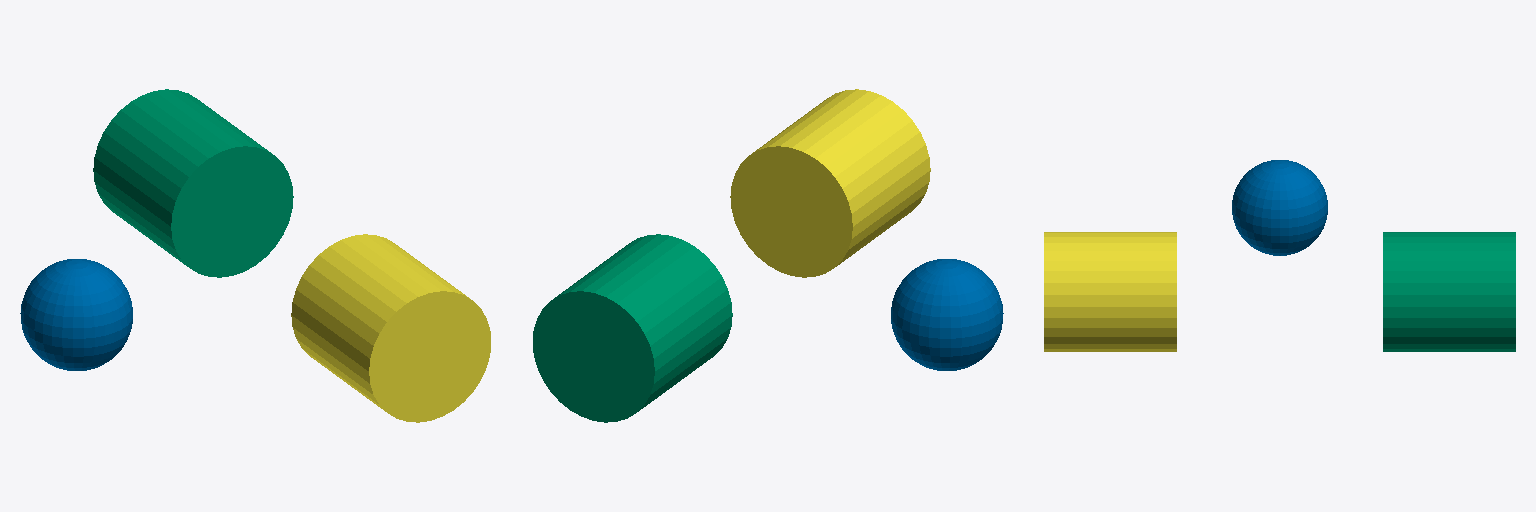
The robot description file, URDF, robot "crawler":
<?xml version="1.0" ?>
<!-- =================================================================================== -->
<!-- |    This document was autogenerated by xacro from crawler.xacro                  | -->
<!-- |    EDITING THIS FILE BY HAND IS NOT RECOMMENDED                                 | -->
<!-- =================================================================================== -->
<robot name="crawler">
  <!-- Base Footprint -->
  <link name="base_footprint">
    <origin rpy="0 0 0" xyz="0 0 0"/>
    <!--xacro:box_inertia m="0.01" w="0.001" h="0.001" d="0.001"/-->
  </link>
  <!--Base link for the main body-->
  <link name="base_link">
    <origin rpy="0 0 0" xyz="0 0 0"/>
    <inertial>
      <mass value="2"/>
      <inertia ixx="0.008333" ixy="0.0" ixz="0.0" iyy="0.008333" iyz="0.0" izz="0.0133333"/>
    </inertial>
    <collision>
      <geometry>
        <box size="0.2 0.2 0.05"/>
      </geometry>
    </collision>
  </link>
  <!--base_link to base_footprint Joint-->
  <joint name="base_link_joint" type="fixed">
    <origin rpy="0 0 0" xyz="0 0 0.0425"/>
    <parent link="base_footprint"/>
    <child link="base_link"/>
  </joint>
  <link name="left_front_wheel">
    <collision>
      <origin rpy="1.570796326795 0 0" xyz="0 0 0"/>
      <geometry>
        <!-- <mesh filename="./crawler_front_wheel_filet.stl" /> -->
        <cylinder length="0.055" radius="0.025"/>
      </geometry>
    </collision>
    <visual>
      <origin rpy="1.570796326795 0 0" xyz="0 0 0"/>
        <geometry>
	        <!-- <mesh filename="./crawler_front_wheel_filet.stl"/>	 -->
          <cylinder length="0.055" radius="0.025"/>
      </geometry>
    </visual>
    <surface>
      <friction>
        <ode>
          <mu>1.0</mu>
          <mu2>1.0</mu2>
        </ode>
      </friction>
    </surface>
    <inertial>
      <mass value="0.8"/>
      <inertia ixx="0.0003266666666666667" ixy="0" ixz="0" iyy="0.0003266666666666667" iyz="0" izz="0.00025000000000000006"/>
    </inertial>
  </link>
  <joint name="left_front_wheel_joint" type="continuous">
    <axis rpy="0 0 0" xyz="0 1 0"/>
    <parent link="base_link"/>
    <child link="left_front_wheel"/>
    <origin rpy="0 0 0" xyz="0.0 0.07 -0.03"/>
  </joint>
  <link name="right_front_wheel">
    <collision>
      <origin rpy="1.570796326795 0 0" xyz="0 0 0"/>
      <geometry>
        <!-- <mesh filename="./crawler_front_wheel_filet.stl" /> -->
        <cylinder length="0.055" radius="0.025"/>
      </geometry>
    </collision>
    <visual>
      <origin rpy="1.570796326795 0 0" xyz="0 0 0"/>
      <geometry>
        <!-- <mesh filename="./crawler_front_wheel_filet.stl" /> -->
        <cylinder length="0.055" radius="0.025"/>
      </geometry>
    </visual>
    <surface>
      <friction>
        <ode>
          <mu>1.0</mu>
          <mu2>1.0</mu2>
        </ode>
      </friction>
    </surface>
    <inertial>
      <mass value="0.8"/>
      <inertia ixx="0.0003266666666666667" ixy="0" ixz="0" iyy="0.0003266666666666667" iyz="0" izz="0.00025000000000000006"/>
    </inertial>
  </link>
  <joint name="right_front_wheel_joint" type="continuous">
    <axis rpy="0 0 0" xyz="0 1 0"/>
    <parent link="base_link"/>
    <child link="right_front_wheel"/>
    <origin rpy="0 0 0" xyz="0.0 -0.07 -0.03"/>
  </joint>
 
  <!-- SPHERICAL CASTER WHEEL -->
  <!--Caster Wheel Link-->
  <link name="caster_wheel">
    <visual>
      <origin xyz="0 0 0" rpy="0 0 0"/>
      <geometry>
        <sphere radius="0.02"/>
      </geometry>
    </visual>
    <collision>
      <origin xyz="0 0 0" rpy="0 0 0"/>
      <geometry>
        <sphere radius="0.02"/>
      </geometry>
    </collision>
    <surface>
      <friction>
        <ode>
          <mu>1.0</mu>
          <mu2>1.0</mu2>
        </ode>
      </friction>
    </surface>
    <inertial>
      <mass value="0.25"/>
      <inertia ixx="0.00004" ixy="0.0" ixz="0.0" iyy="0.00004" iyz="0.0" izz="0.00004"/>
    </inertial>
  </link>

  <!--Caster Wheel Joint-->
  <joint name="caster_wheel_joint" type="continuous">
    <axis xyz="0 1 0" rpy="0 0 0"/>
    <parent link="base_link"/>
    <child link="caster_wheel"/>
    <origin xyz="-0.088 0.0 -0.0325" rpy="0 0 0"/>
  </joint>

</robot>

--- Facts derived from the render (not from the file) ---
Views: 3 orthographic renders of the robot side by side, from view 1: azimuth 30°, elevation 25°; view 2: azimuth 150°, elevation 25°; view 3: azimuth 270°, elevation 25°.
Model crawler with 5 links and 4 joints (3 continuous, 1 fixed), rooted at base_footprint, posed every joint at zero.
Links seen in each view (by area): view 1: left_front_wheel, right_front_wheel, caster_wheel; view 2: left_front_wheel, right_front_wheel, caster_wheel; view 3: left_front_wheel, right_front_wheel, caster_wheel.
Link boxes in pixels (left/top/right/bottom): left_front_wheel: left=93, top=89, right=293, bottom=277; right_front_wheel: left=291, top=234, right=490, bottom=422; caster_wheel: left=20, top=259, right=132, bottom=370; left_front_wheel: left=533, top=234, right=732, bottom=422; right_front_wheel: left=730, top=89, right=930, bottom=277; caster_wheel: left=891, top=259, right=1003, bottom=370; left_front_wheel: left=1383, top=232, right=1515, bottom=351; right_front_wheel: left=1044, top=232, right=1176, bottom=351; caster_wheel: left=1232, top=160, right=1327, bottom=255.
Size in the robot's own frame: 0.133 by 0.195 by 0.05 metres.
Geometry: primitives only (box / cylinder / sphere), no mesh files.